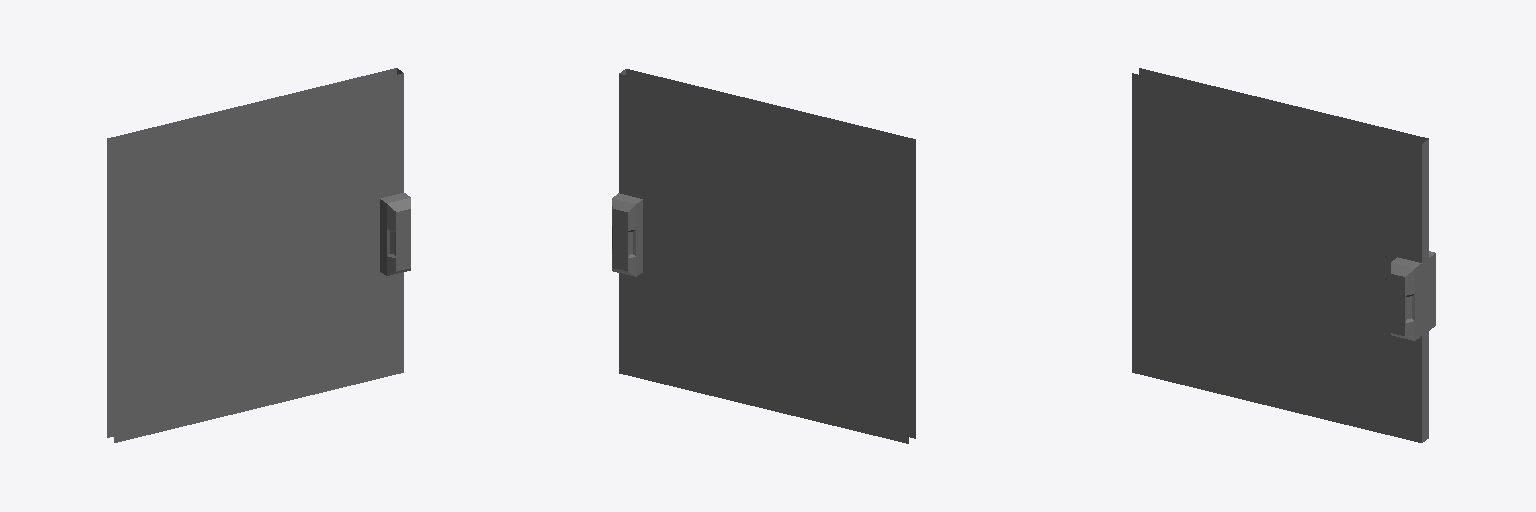
The model's file is GlassWall_Door_001_obj.obj.
The picture shows the model from 3 angles: view 1: azimuth 30°, elevation 25°; view 2: azimuth 150°, elevation 25°; view 3: azimuth 330°, elevation 25°; orthographic projection.
Visible parts, largest first — view 1: GlassWall_Door_001_obj.obj; view 2: GlassWall_Door_001_obj.obj; view 3: GlassWall_Door_001_obj.obj.
Boxes of the visible parts, x1,y1,x2,y2 form: GlassWall_Door_001_obj.obj: [107, 68, 410, 442]; GlassWall_Door_001_obj.obj: [612, 69, 915, 443]; GlassWall_Door_001_obj.obj: [1132, 68, 1435, 442].
Size of the model in its own units: 355 by 350 by 63.14.